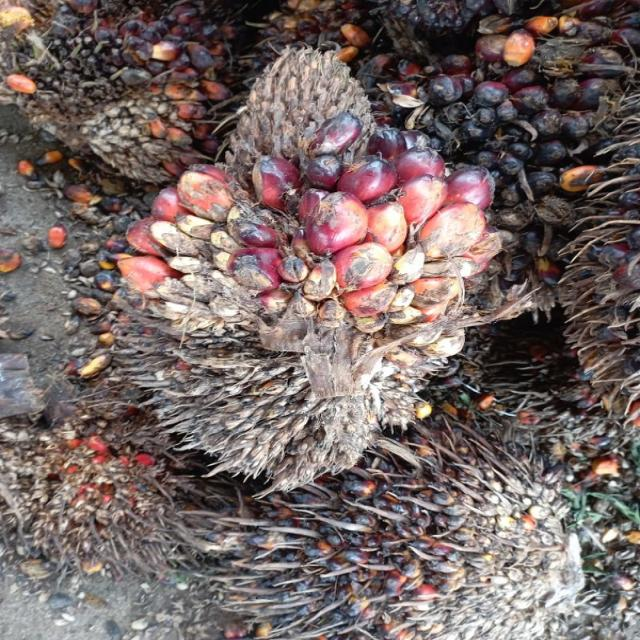fraksi 3: (123, 71, 506, 477)
